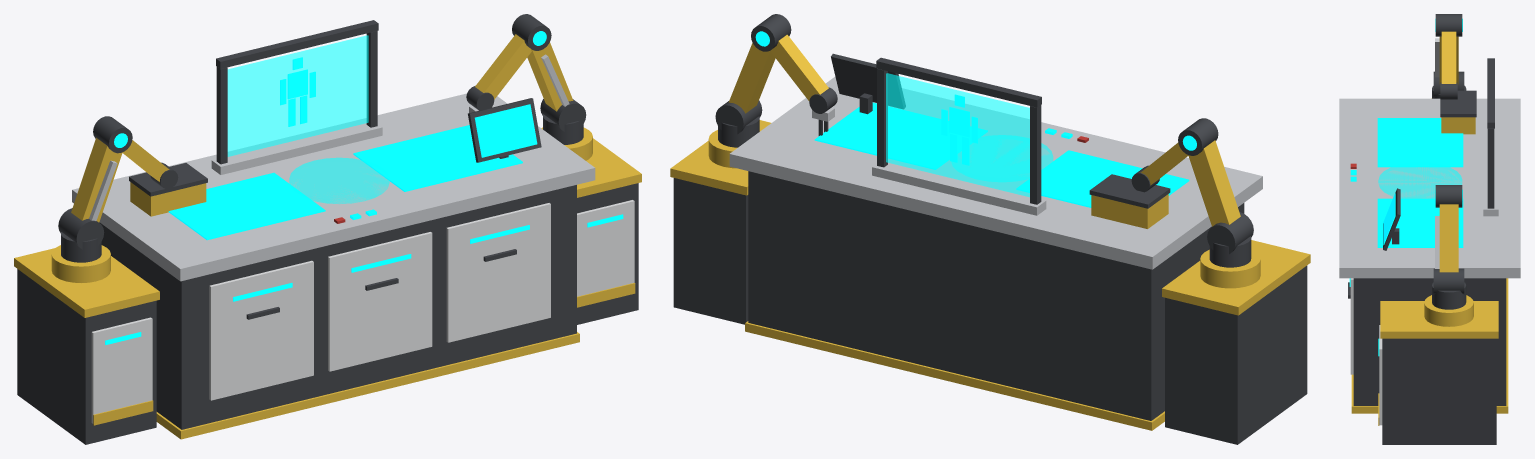
Rendered from FV_AssemblyWorkstation.fbx.
3 views of the same model, side by side, from view 1: azimuth 30°, elevation 25°; view 2: azimuth 150°, elevation 25°; view 3: azimuth 270°, elevation 25° (orthographic). The views are drawn at different scales.
Visible parts, largest first — view 1: AssemblyWorkstation; view 2: AssemblyWorkstation; view 3: AssemblyWorkstation.
Part boxes in pixels (x1,y1,x2,y2): AssemblyWorkstation: (14, 14, 641, 444); AssemblyWorkstation: (670, 14, 1310, 444); AssemblyWorkstation: (1339, 14, 1520, 444).
Size of the model in its own units: 2.82 by 1.4 by 0.95.
